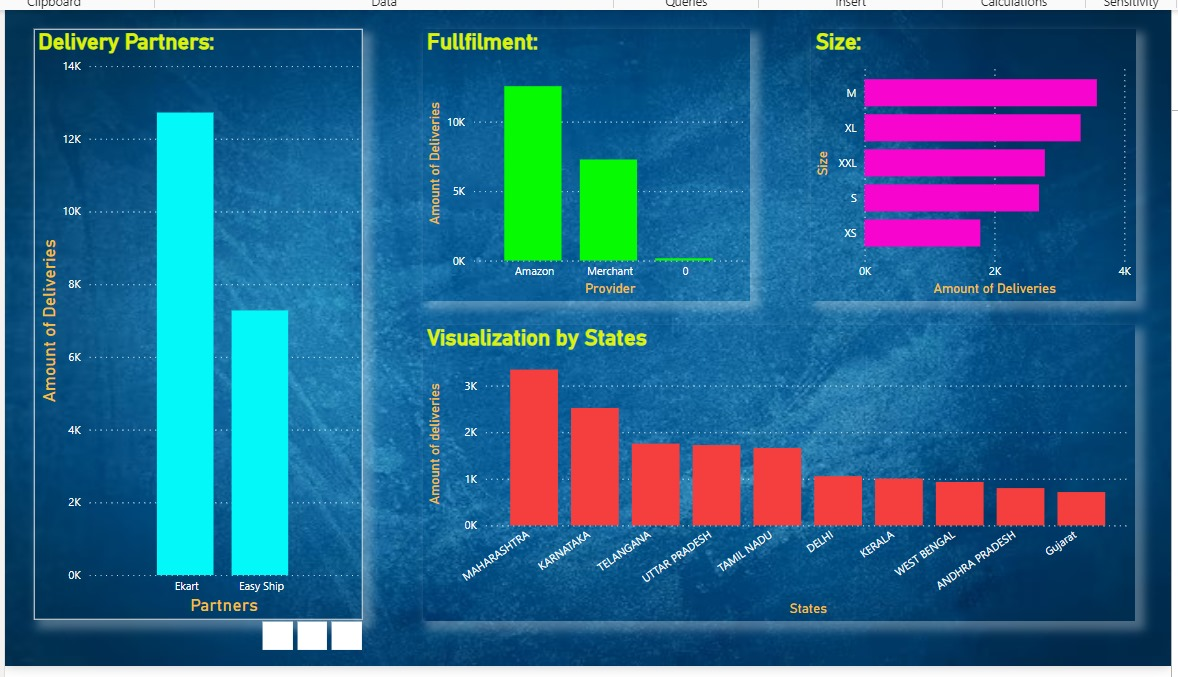

The page's visual inventory and layout, read from the dashboard file:
{"tool":"powerbi","page":{"name":"Page 2","canvas":[1280,720],"ordinal":1},"visuals":[{"type":"columnChart","title":"Delivery Partners:","fields":{"Category":["Amazon Sale Report.fulfilled-by"],"Y":["CountNonNull(Amazon Sale Report.fulfilled-by)"]},"box":[30.9,20.6,361.8,648.5],"z":0},{"type":"columnChart","title":"Fullfilment:","fields":{"Category":["Amazon Sale Report.Fulfilment"],"Y":["CountNonNull(Amazon Sale Report.Fulfilment)"]},"box":[458.8,20.6,360.3,298.5],"z":1000},{"type":"clusteredBarChart","title":"Size:","fields":{"Category":["Amazon Sale Report.Size"],"Y":["CountNonNull(Amazon Sale Report.Size)"]},"box":[885.3,20.6,355.9,298.5],"z":2000},{"type":"clusteredColumnChart","title":"Visualization by States","fields":{"Category":["Amazon Sale Report.ship-state"],"Y":["CountNonNull(Amazon Sale Report.ship-state)"]},"box":[458.8,345.6,782.4,325],"z":3000}]}

Visuals, with their boxes on the page's 1280x720 design canvas (x1, y1, x2, y2). These are canvas units, not pixel positions in the 1178x677 screenshot, which may show the page scaled, cropped or inside an application window:
"Delivery Partners:" columnChart: {"left": 31, "top": 21, "right": 393, "bottom": 669}
"Fullfilment:" columnChart: {"left": 459, "top": 21, "right": 819, "bottom": 319}
"Size:" clusteredBarChart: {"left": 885, "top": 21, "right": 1241, "bottom": 319}
"Visualization by States" clusteredColumnChart: {"left": 459, "top": 346, "right": 1241, "bottom": 671}
